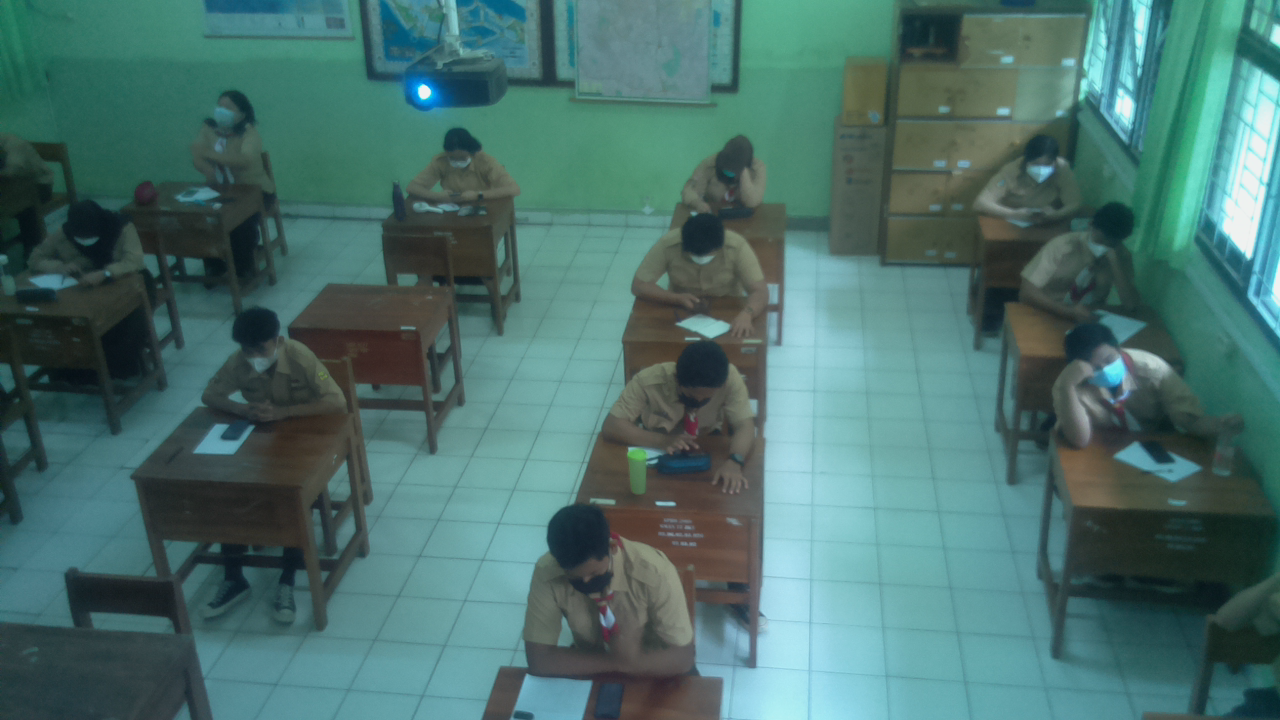Student: (527, 511, 697, 670), (213, 305, 334, 410), (1063, 329, 1181, 427), (629, 339, 739, 437), (1041, 201, 1133, 301), (647, 219, 750, 298), (995, 133, 1083, 210), (45, 207, 143, 269), (197, 93, 266, 181), (687, 137, 765, 206), (421, 133, 503, 197)
